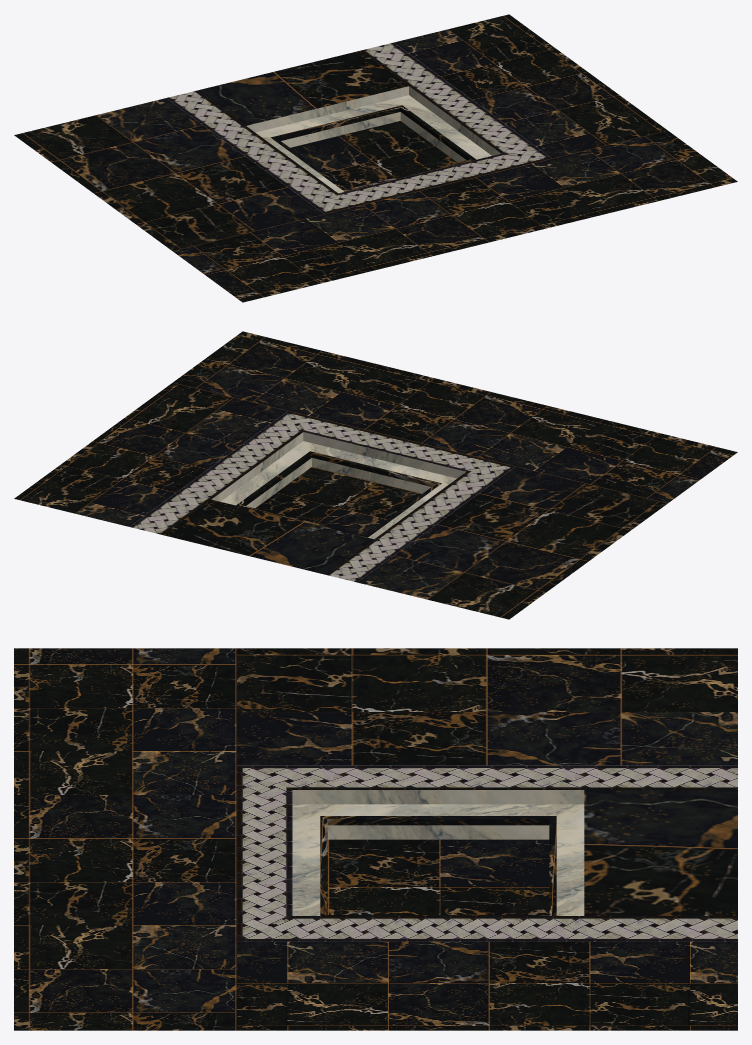
Rendered from Atrium_FireplaceFloor.fbx.
3 renders of one model, top to bottom at view 1: azimuth 30°, elevation 25°; view 2: azimuth 150°, elevation 25°; view 3: azimuth 270°, elevation 25°, orthographic. The views are drawn at different scales.
Visible parts, largest first — view 1: FirePlaceFloor; view 2: FirePlaceFloor; view 3: FirePlaceFloor.
Part boxes in pixels (x1,y1,x2,y2): FirePlaceFloor: (14, 14, 737, 302); FirePlaceFloor: (14, 331, 737, 619); FirePlaceFloor: (14, 648, 737, 1030).
Size of what is drawn, in the model's own units: 741 by 31.22 by 593.
